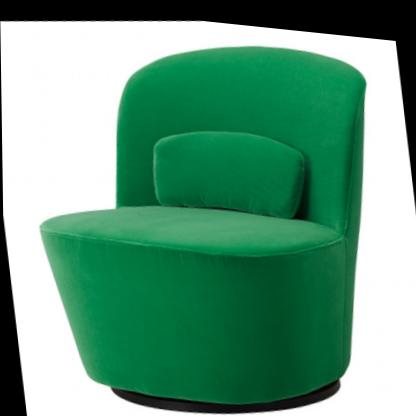Chair: (9, 2, 410, 416)
